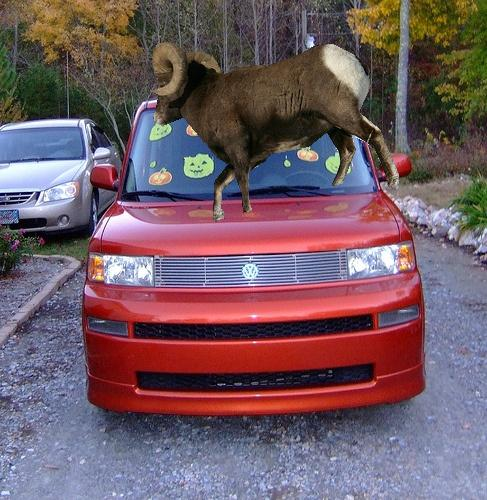tampered: (151, 43, 399, 222)
